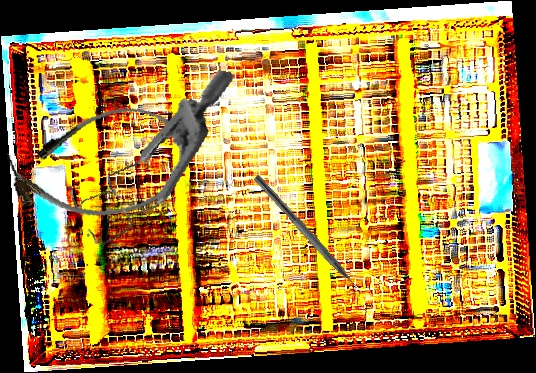Cannula: (0, 97, 196, 233)
Chopper: (244, 173, 370, 306)
Speculum: (58, 46, 236, 264)
